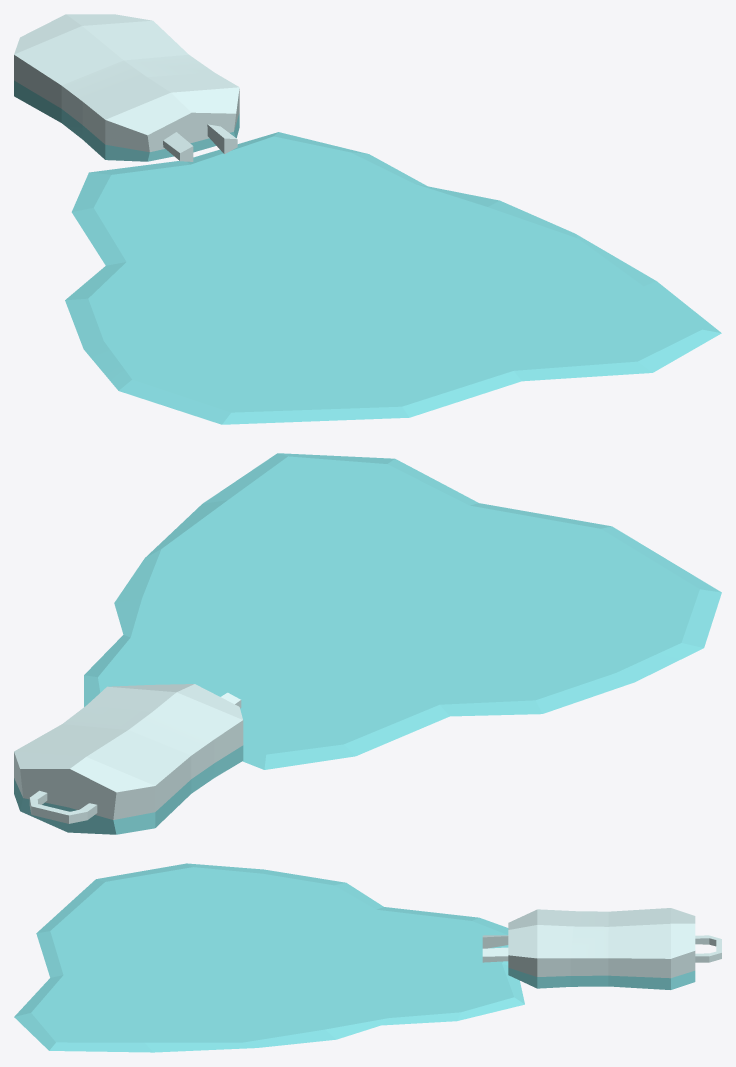
File: apocalypse_water-bag-spilled.fbx
3 views of the same model, one above another, from view 1: azimuth 30°, elevation 25°; view 2: azimuth 150°, elevation 25°; view 3: azimuth 270°, elevation 25° (orthographic). The views are drawn at different scales.
Parts seen in each view (by area): view 1: apocalypse_water_bag_spilled; view 2: apocalypse_water_bag_spilled; view 3: apocalypse_water_bag_spilled.
Part boxes in pixels (x1,y1,x2,y2): apocalypse_water_bag_spilled: [14, 14, 721, 424]; apocalypse_water_bag_spilled: [14, 453, 721, 834]; apocalypse_water_bag_spilled: [14, 863, 721, 1052].
Size of the model in its own units: 126 by 14.79 by 200.
